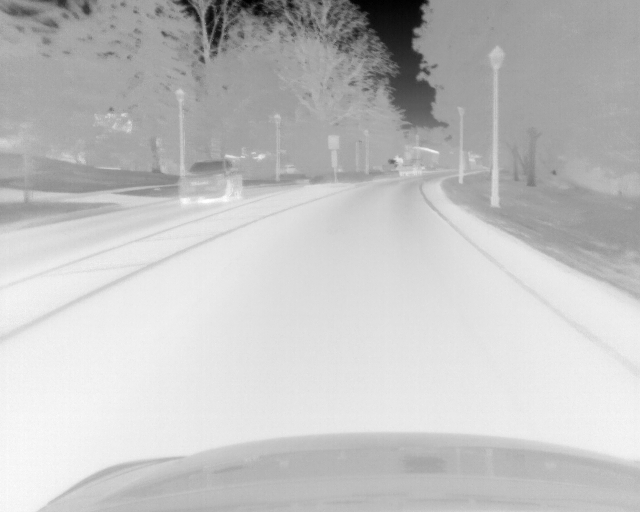car: (177, 158, 245, 207), (396, 157, 421, 175)
